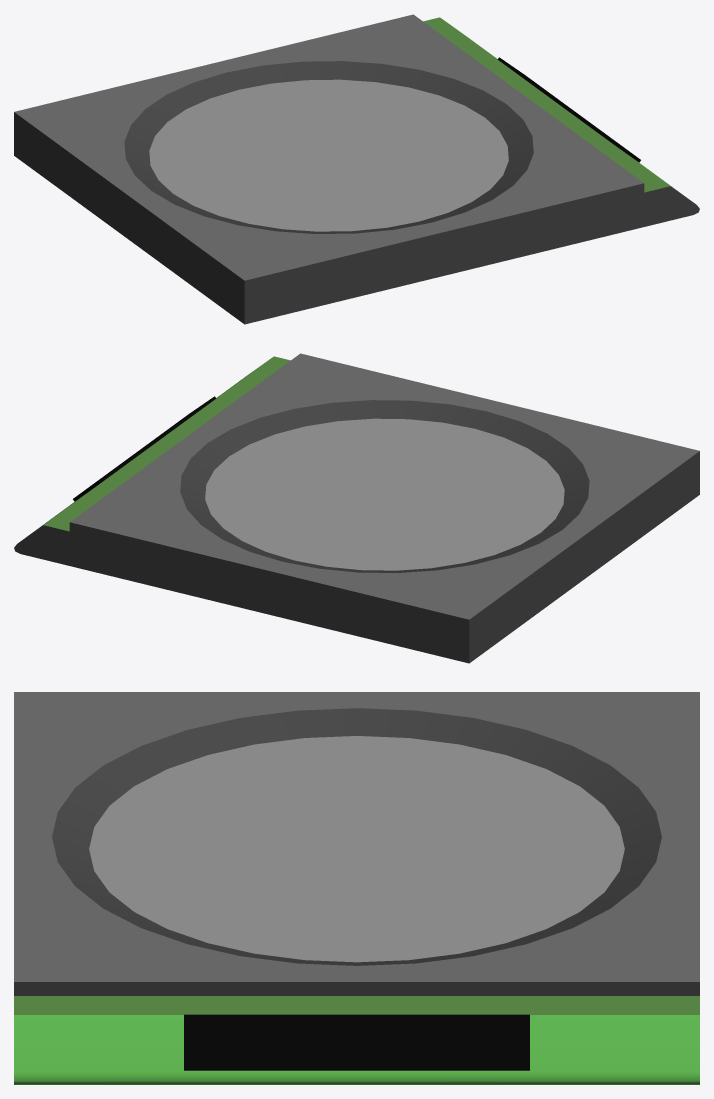
Rendered from Kitchen_Scale.fbx.
The picture shows the model from 3 angles, top to bottom: view 1: azimuth 30°, elevation 25°; view 2: azimuth 150°, elevation 25°; view 3: azimuth 270°, elevation 25°; orthographic projection. The views are drawn at different scales.
Parts seen in each view (by area): view 1: Kitchen_Scale; view 2: Kitchen_Scale; view 3: Kitchen_Scale.
Part boxes in pixels (<box>): Kitchen_Scale: <box>14,14,699,324</box>; Kitchen_Scale: <box>14,353,699,663</box>; Kitchen_Scale: <box>14,692,699,1084</box>.
Size of the model in its own units: 2.28 by 0.2095 by 2.
1 material, 1 textured.
